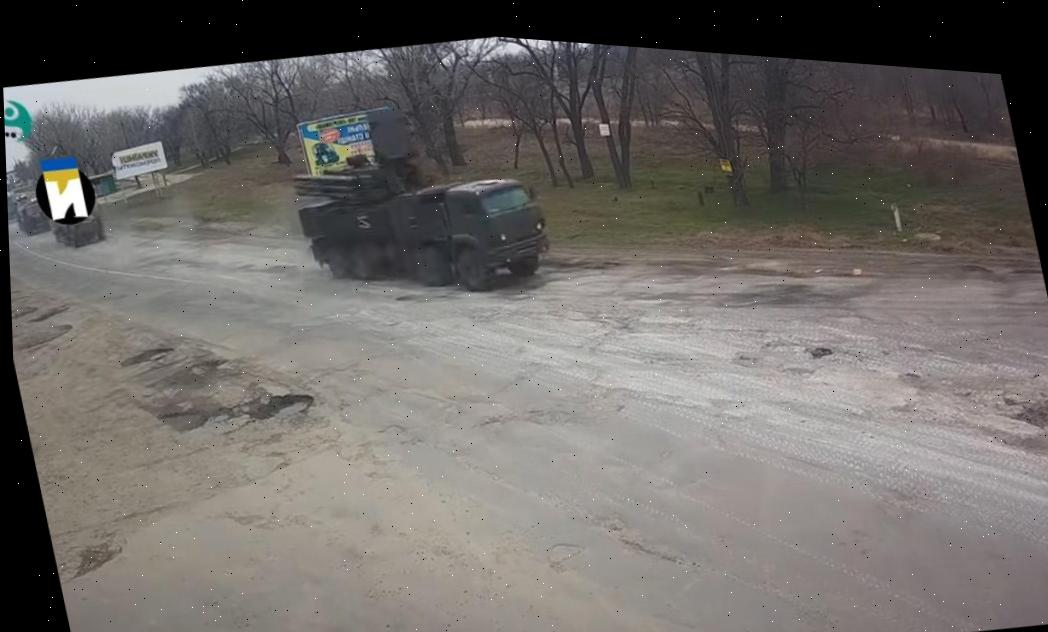truck: (282, 124, 557, 318), (7, 190, 49, 242), (7, 192, 22, 228)
